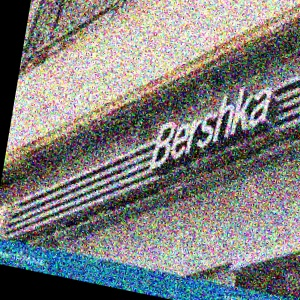bershka: (66, 34, 300, 160)
